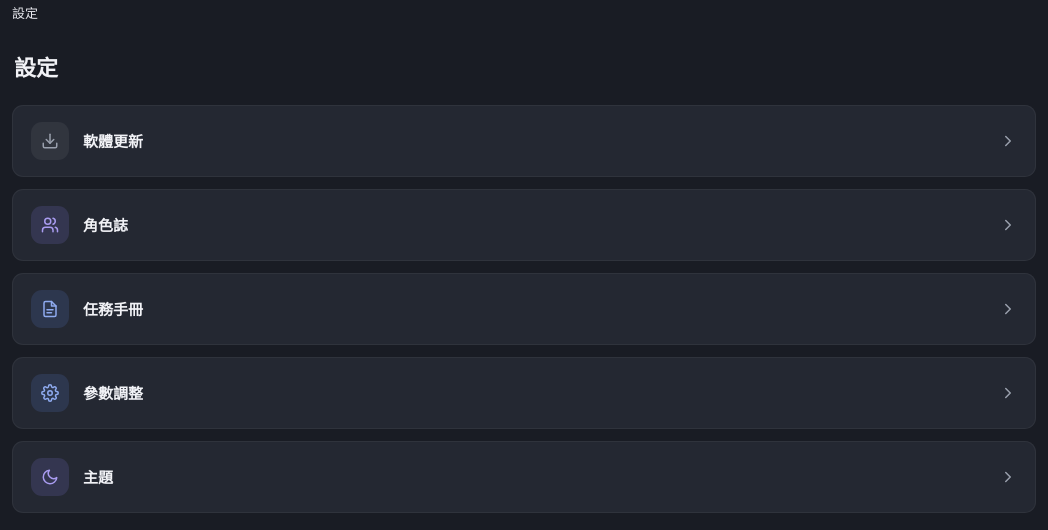
Test: SettingsPage · 軟體更新 · 檢查更新 (explicit fresh verdict) › update_available renders the tag + release link in the ONE status line
Click the button "軟體更新" at {"x": 50, "y": 140}, box x1=12 y1=104 x2=1036 y2=176
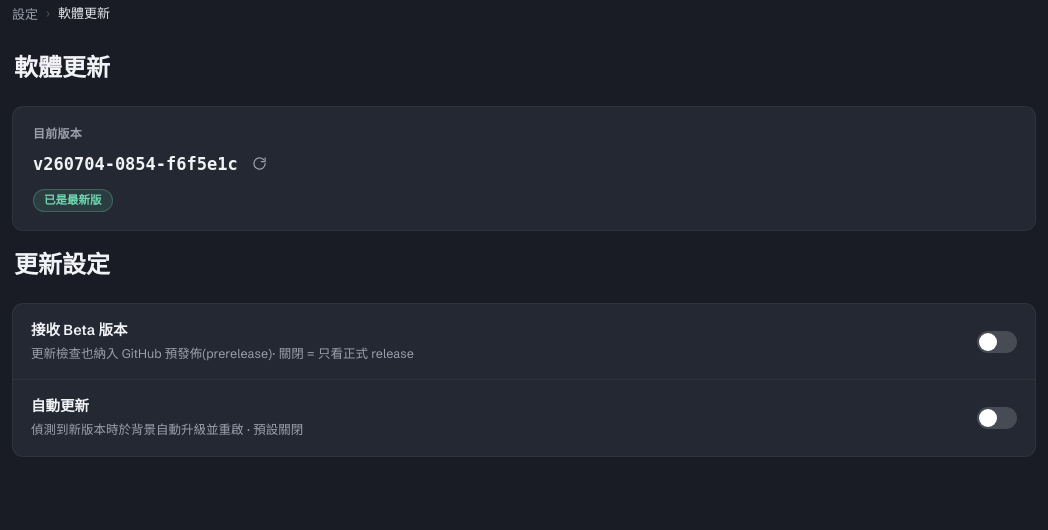
Expected: the switch with test id "settings-auto-update" is shown, x1=977 y1=407 x2=1017 y2=429
Click the button with test id "settings-check-release" at {"x": 260, "y": 164}, box x1=246 y1=150 x2=274 y2=178
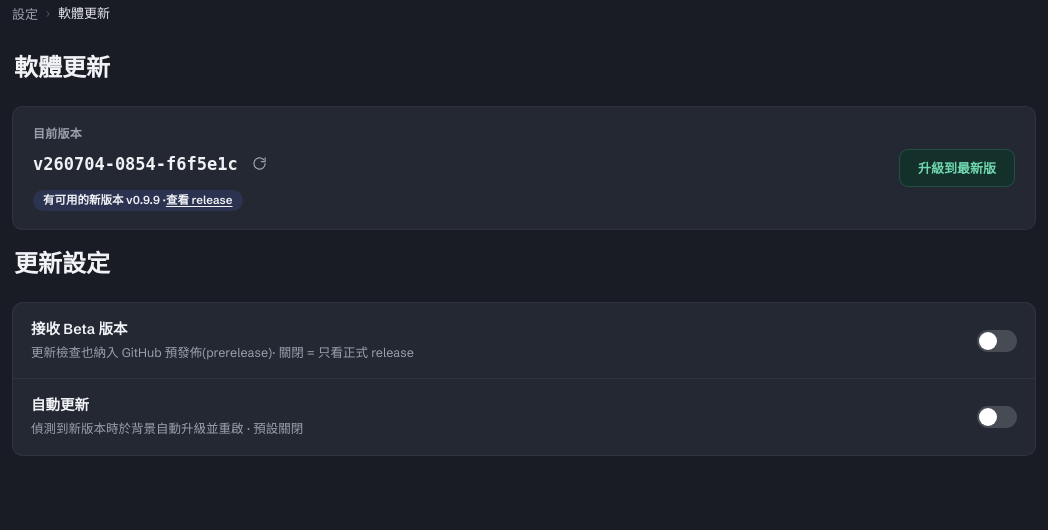
Expected: the number of elements with test id "settings-update-status" is 1, x1=33 y1=190 x2=242 y2=208
Expected: the element with test id "settings-update-status" shows "有可用的新版本", x1=43 y1=192 x2=124 y2=206
Expected: the element with test id "settings-update-status" shows "v0.9.9", x1=124 y1=192 x2=160 y2=206
